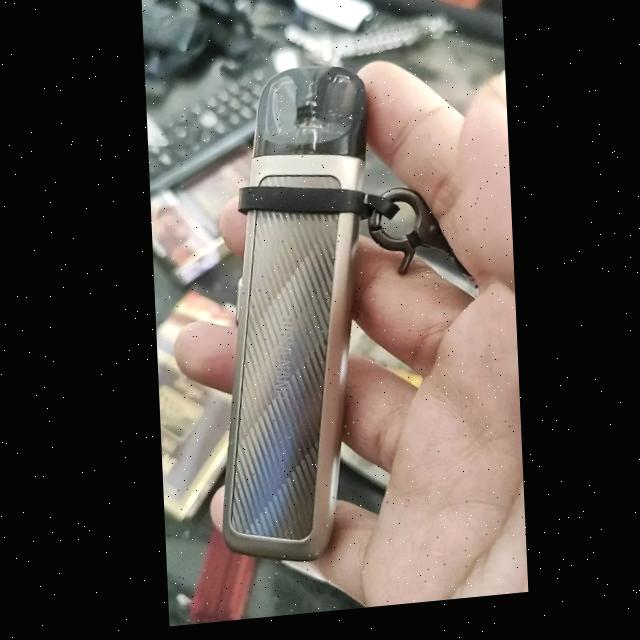vape: (199, 66, 377, 574)
